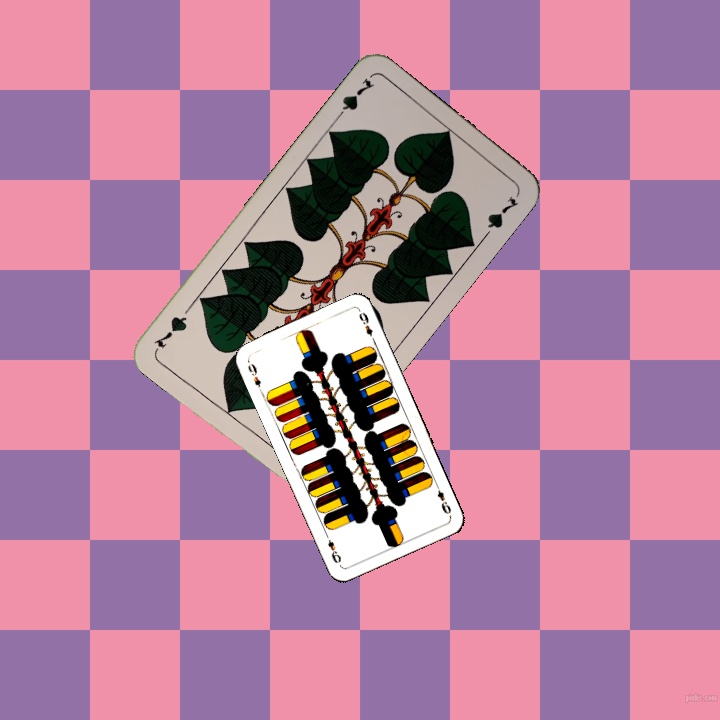E9: (431, 479, 454, 517), (243, 359, 265, 395)
G7: (331, 73, 376, 124)
